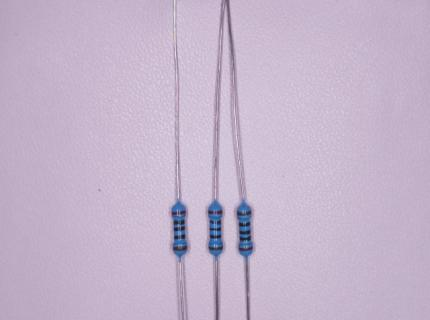Black band: (173, 219, 185, 225), (174, 226, 185, 232), (239, 236, 252, 241), (239, 230, 251, 235), (238, 222, 250, 227), (173, 235, 185, 240), (210, 220, 221, 225), (209, 235, 222, 239), (209, 227, 221, 231)
Brown band: (171, 210, 186, 216), (236, 211, 251, 216), (173, 246, 187, 251), (208, 247, 223, 251)
Red band: (238, 247, 254, 252), (208, 210, 223, 214)
